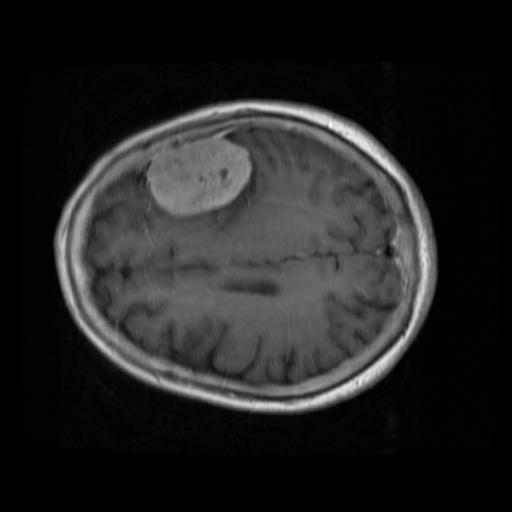meningioma: (146, 137, 251, 217)
